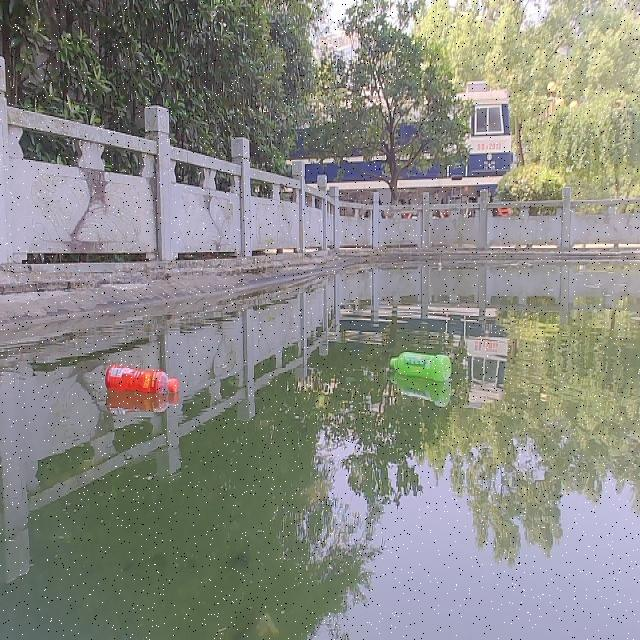Bottle: (105, 360, 179, 395), (389, 349, 453, 382)
